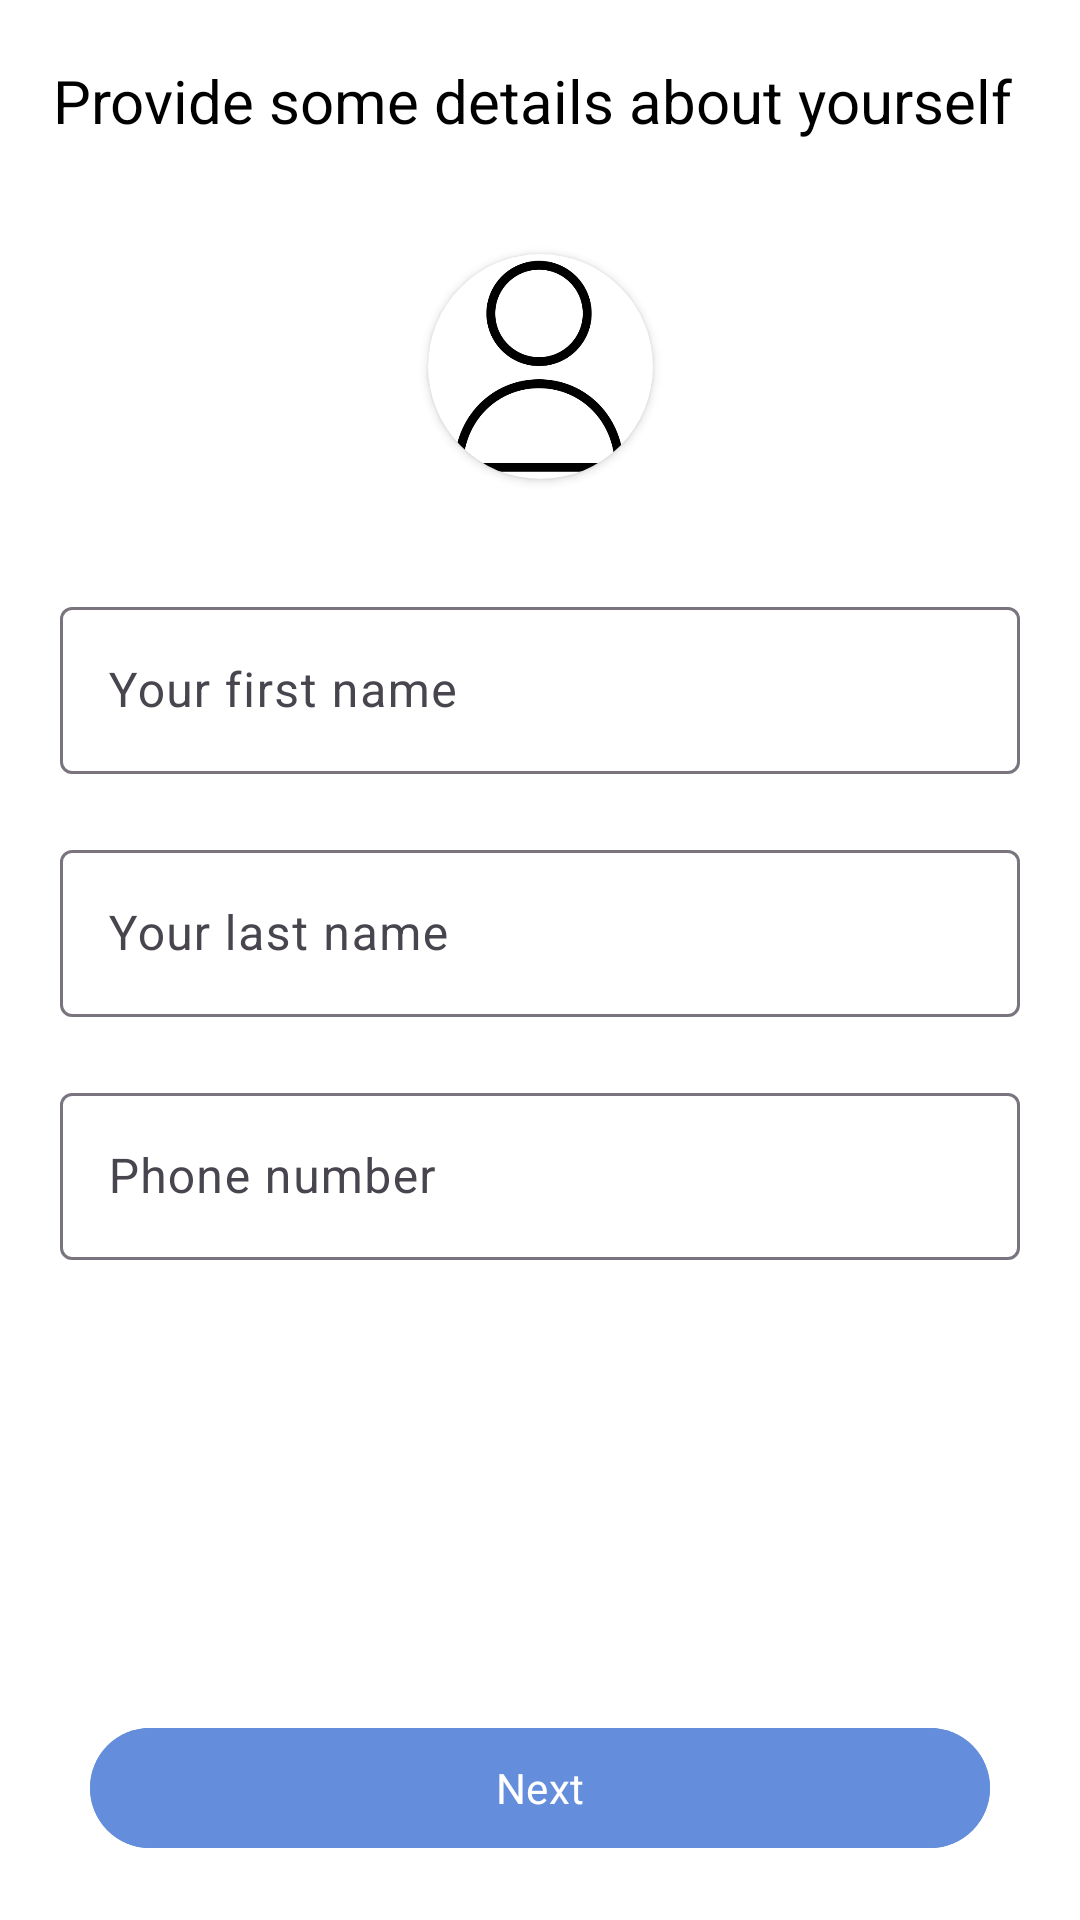

Named icons in this screenshot (1080px×1920px) and their centers, (x=x, y=y):
profile: (x=540, y=369)
